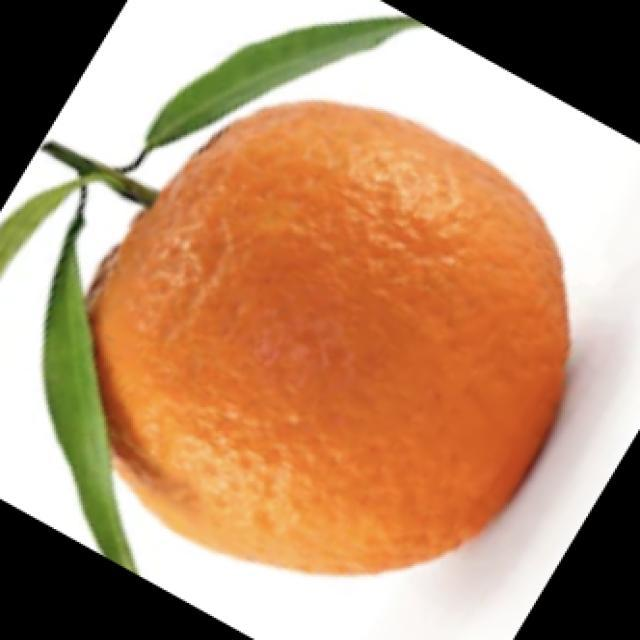Orange: (84, 98, 571, 576)
